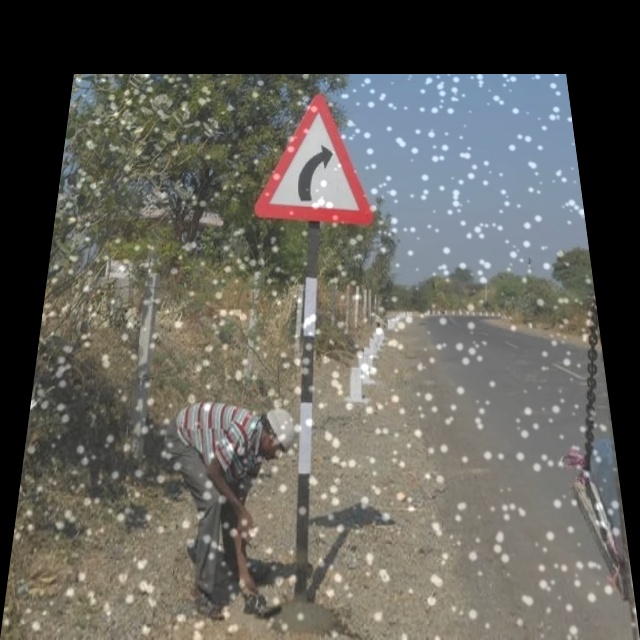Right_Hand_Curve: (254, 95, 373, 225)
